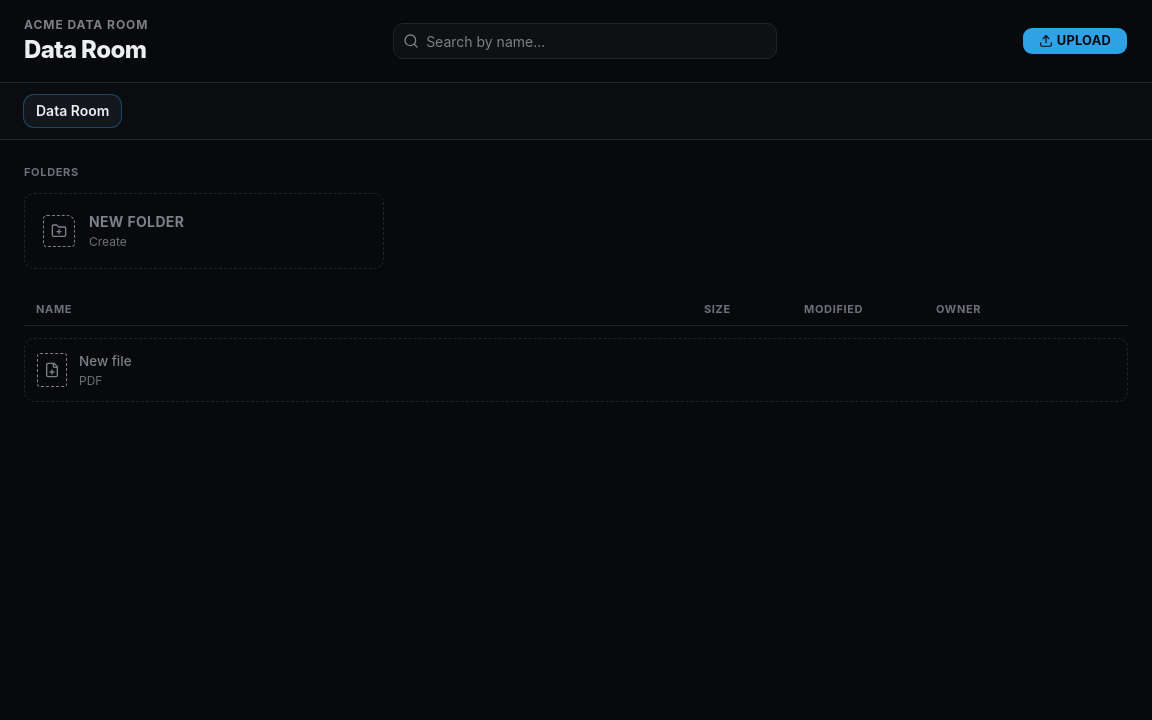
Test case: DataRoomPage › shows an empty state when search has no matches
Check: the button "New folder Create" is shown, box [24,192,384,268]
In the field with placeholder "Search by name...": point(585, 41) [393,23,777,59], type "zzzz-no-match"
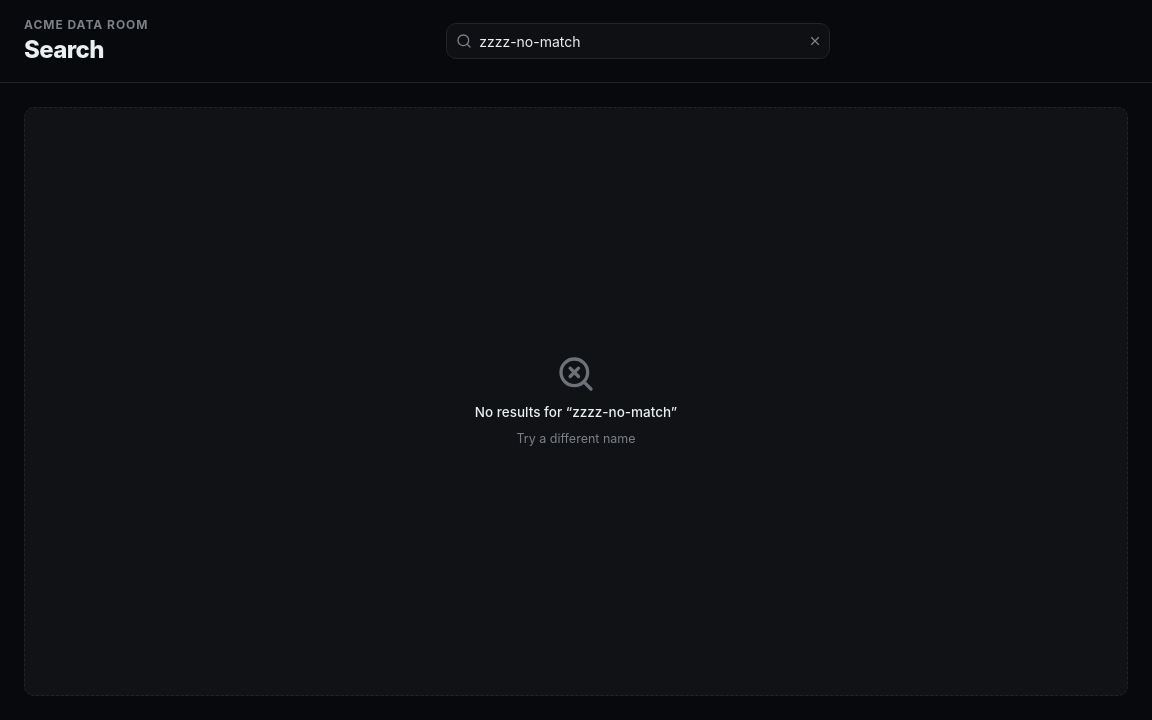
Check: the text "No results for “zzzz-no-match”" is shown, box [475,402,677,422]
Check: the text "Try a different name" is shown, box [516,430,636,449]
Check: the button "New folder" is gone
